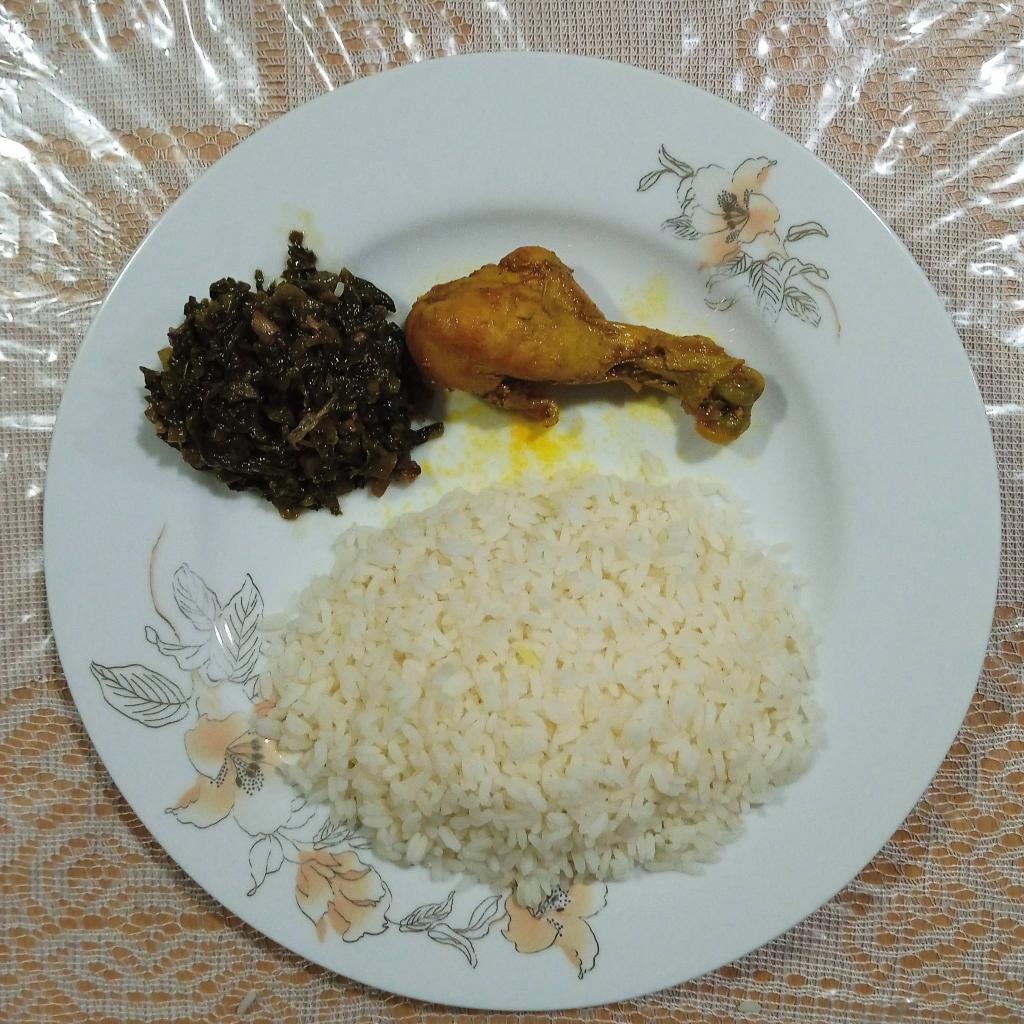chicken: (408, 251, 772, 437)
rice: (254, 477, 822, 909)
shak: (146, 225, 452, 510)
